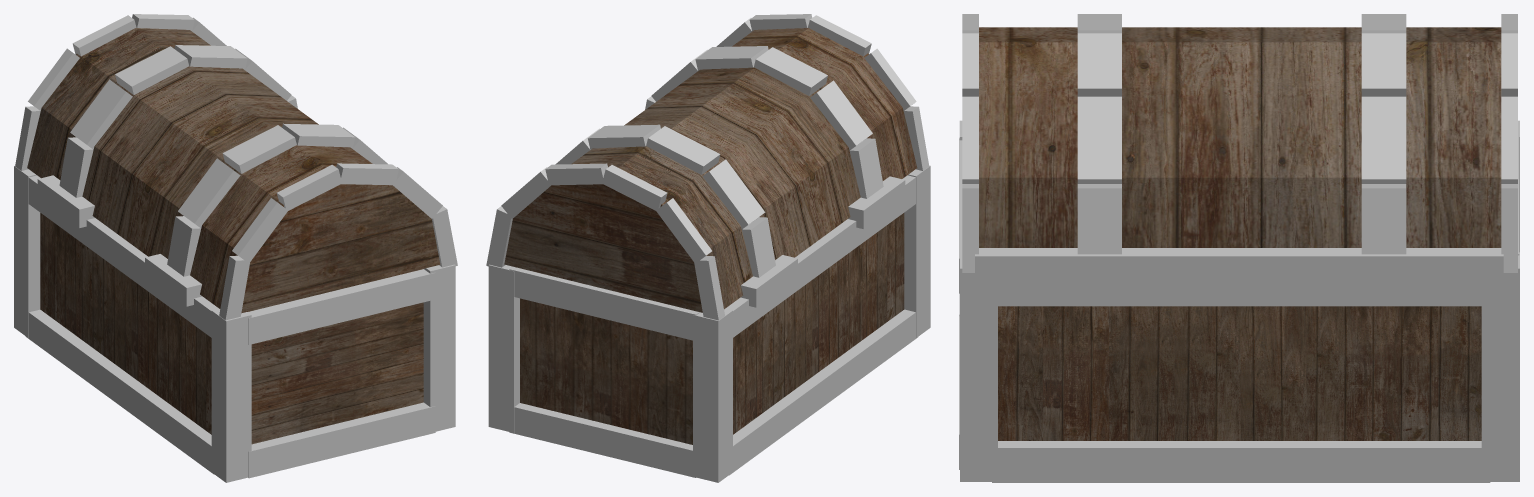
Rendered from treasureChest.fbx.
3 views of the same model, side by side, from view 1: azimuth 30°, elevation 25°; view 2: azimuth 150°, elevation 25°; view 3: azimuth 270°, elevation 25° (orthographic). The views are drawn at different scales.
Visible parts, largest first — view 1: Cylinder, Cube, Cube.013, Cube.006, Cube.010, Cube.007, Cube.003, Cube.014, Cube.005, Cube.028, Cube.037, Cube.035 (+18 smaller); view 2: Cylinder, Cube, Cube.013, Cube.005, Cube.008, Cube.009, Cube.004, Cube.014, Cube.006, Cube.037, Cube.028, Cube.030 (+18 smaller); view 3: Cylinder, Cube, Cube.011, Cube.039, Cube.012, Cube.004, Cube.003, Cube.034, Cube.031, Cube.038, Cube.027, Cube.036 (+9 smaller).
Part boxes in pixels (<box>): Cylinder: <box>27,28,440,313</box>; Cube: <box>40,213,423,444</box>; Cube.013: <box>25,309,214,474</box>; Cube.006: <box>211,309,251,482</box>; Cube.010: <box>248,269,435,344</box>; Cube.007: <box>248,402,435,478</box>; Cube.003: <box>423,264,455,431</box>; Cube.014: <box>28,175,218,337</box>; Cube.005: <box>14,166,40,337</box>; Cube.028: <box>178,158,240,228</box>; Cube.037: <box>70,79,132,149</box>; Cube.035: <box>115,46,189,94</box>; Cylinder: <box>504,28,917,312</box>; Cube: <box>520,213,904,444</box>; Cube.013: <box>729,309,917,475</box>; Cube.005: <box>693,308,732,482</box>; Cube.008: <box>509,403,695,477</box>; Cube.009: <box>509,266,699,340</box>; Cube.004: <box>488,264,519,432</box>; Cube.014: <box>725,175,915,337</box>; Cube.006: <box>904,165,930,337</box>; Cube.037: <box>702,159,765,229</box>; Cube.028: <box>810,80,872,150</box>; Cube.030: <box>753,47,827,95</box>; Cylinder: <box>979,27,1501,247</box>; Cube: <box>998,306,1481,440</box>; Cube.011: <box>992,441,1490,482</box>; Cube.039: <box>975,248,1503,280</box>; Cube.012: <box>998,281,1481,306</box>; Cube.004: <box>1481,252,1519,481</box>; Cube.003: <box>960,252,997,481</box>; Cube.034: <box>1361,96,1406,183</box>; Cube.031: <box>1077,96,1121,183</box>; Cube.038: <box>1361,184,1406,254</box>; Cube.027: <box>1077,184,1121,254</box>; Cube.036: <box>1361,33,1406,96</box>.
Size of the model in its own units: 222 by 253 by 339.
